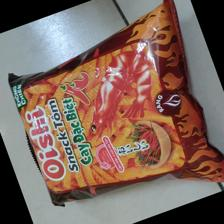Oishi_Cay: (4, 1, 224, 208)
